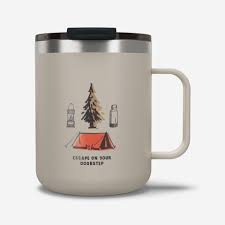mug: (27, 25, 209, 209)
